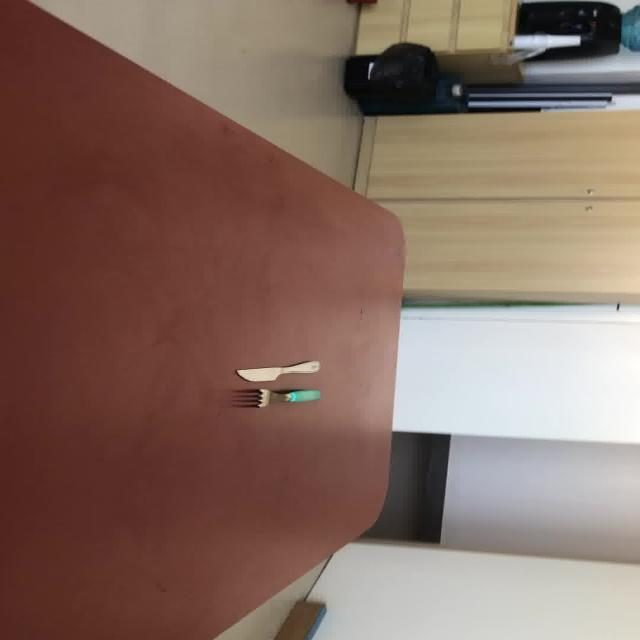fork: (230, 388, 320, 408)
knife fork: (233, 359, 320, 382)
